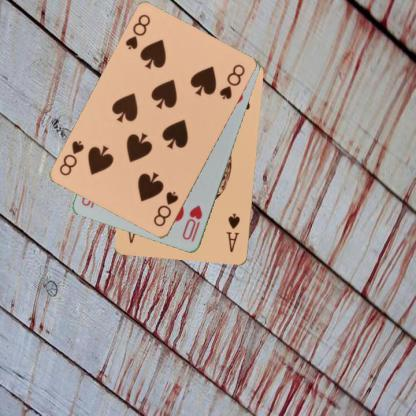10h: (180, 203, 204, 241)
8s: (122, 11, 152, 52), (150, 189, 180, 228)
As: (224, 211, 242, 254)
